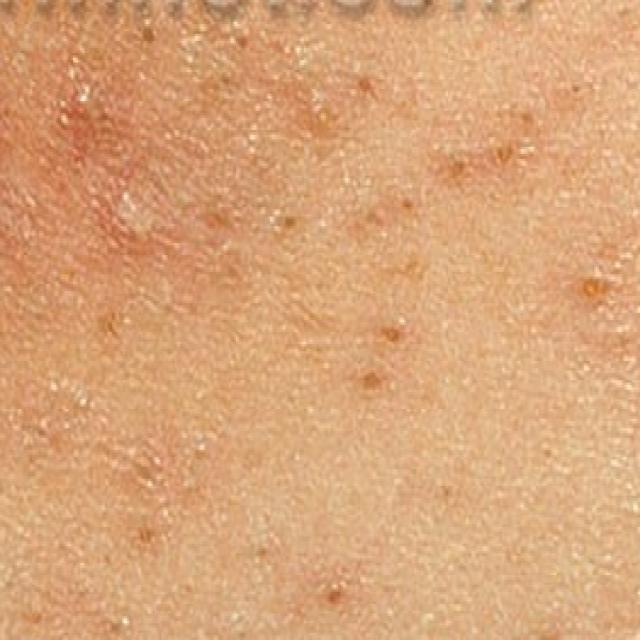blackhead: (362, 369, 382, 393), (582, 278, 606, 297), (383, 326, 404, 346), (316, 106, 331, 129), (142, 24, 156, 46), (497, 146, 512, 164), (358, 75, 372, 94), (56, 114, 72, 130), (452, 160, 464, 180), (72, 93, 88, 108), (234, 34, 248, 50), (284, 215, 296, 233), (570, 80, 582, 98), (140, 527, 152, 545), (402, 196, 414, 213), (80, 82, 92, 99), (64, 69, 78, 83), (329, 590, 340, 604), (69, 54, 80, 66), (220, 74, 230, 87), (441, 486, 450, 498), (59, 98, 67, 111), (4, 105, 12, 118)
